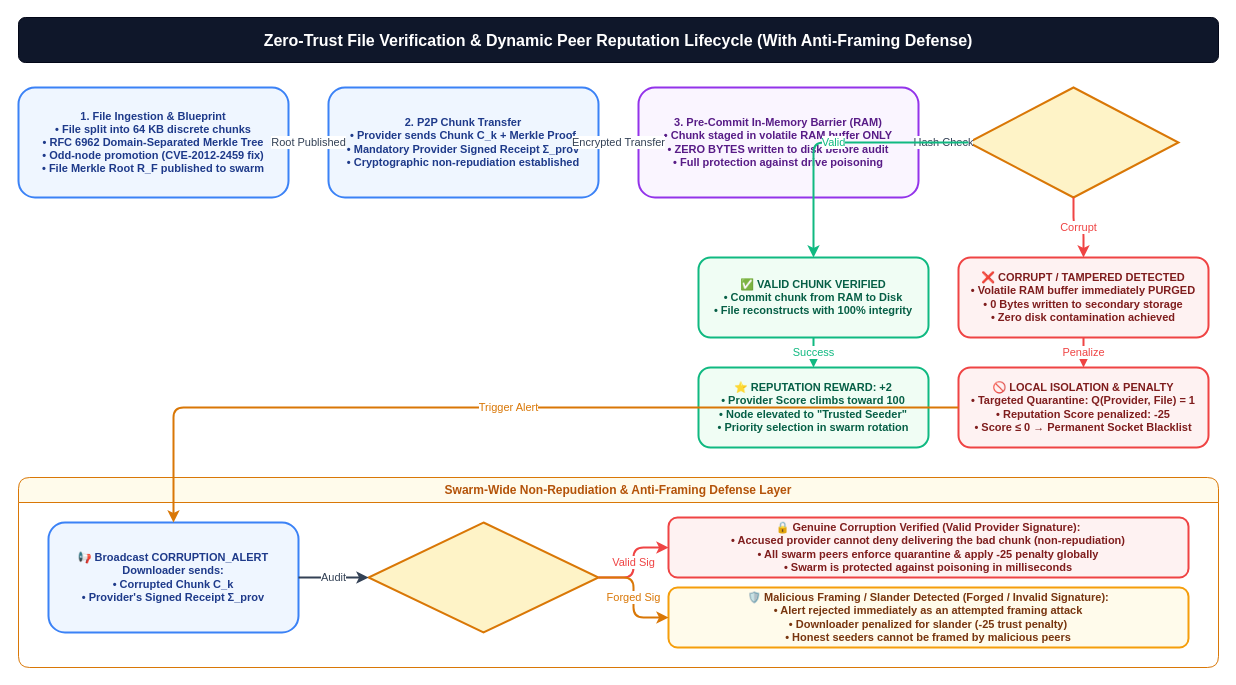
Image size: 1236x685. Some labels were removed from this diagram. The centre of each missing label's shape, as x and y in pixels:
"RFC 6962 Audit: Reconstructed Root == File Root R_F?" goes at point (1073, 142).
"👀 Witness Peers Audit Receipt: Did accused Provider really sign Σ_prov?" goes at point (483, 577).
